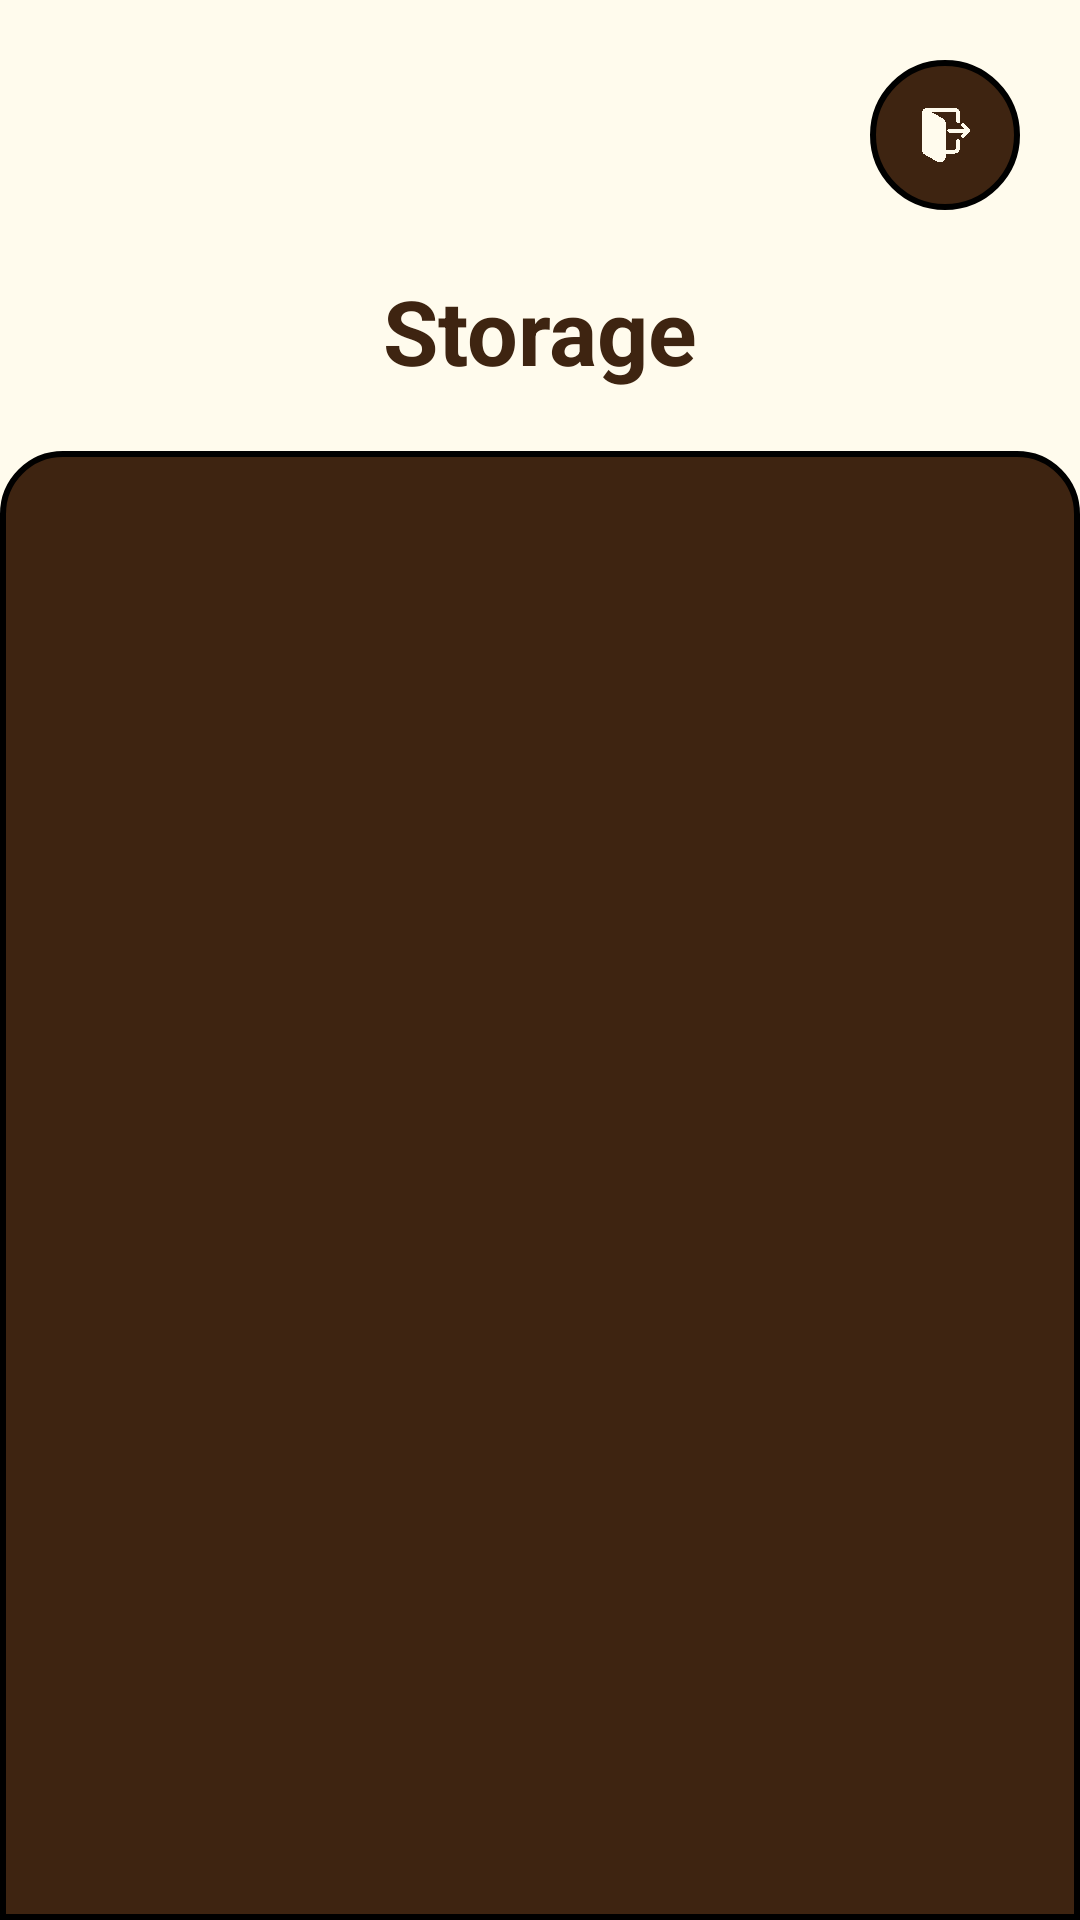

Screen size 1080px x 1920px. Icon name, then its center in pixels as point (x, y):
exit: point (945, 135)
